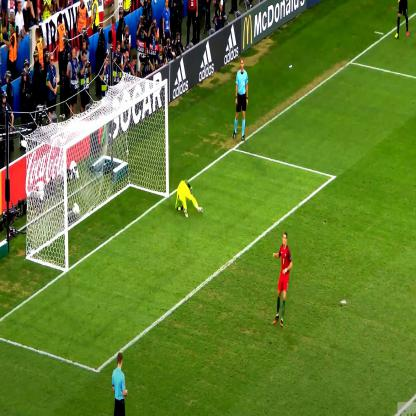goal: (17, 121, 96, 287)
